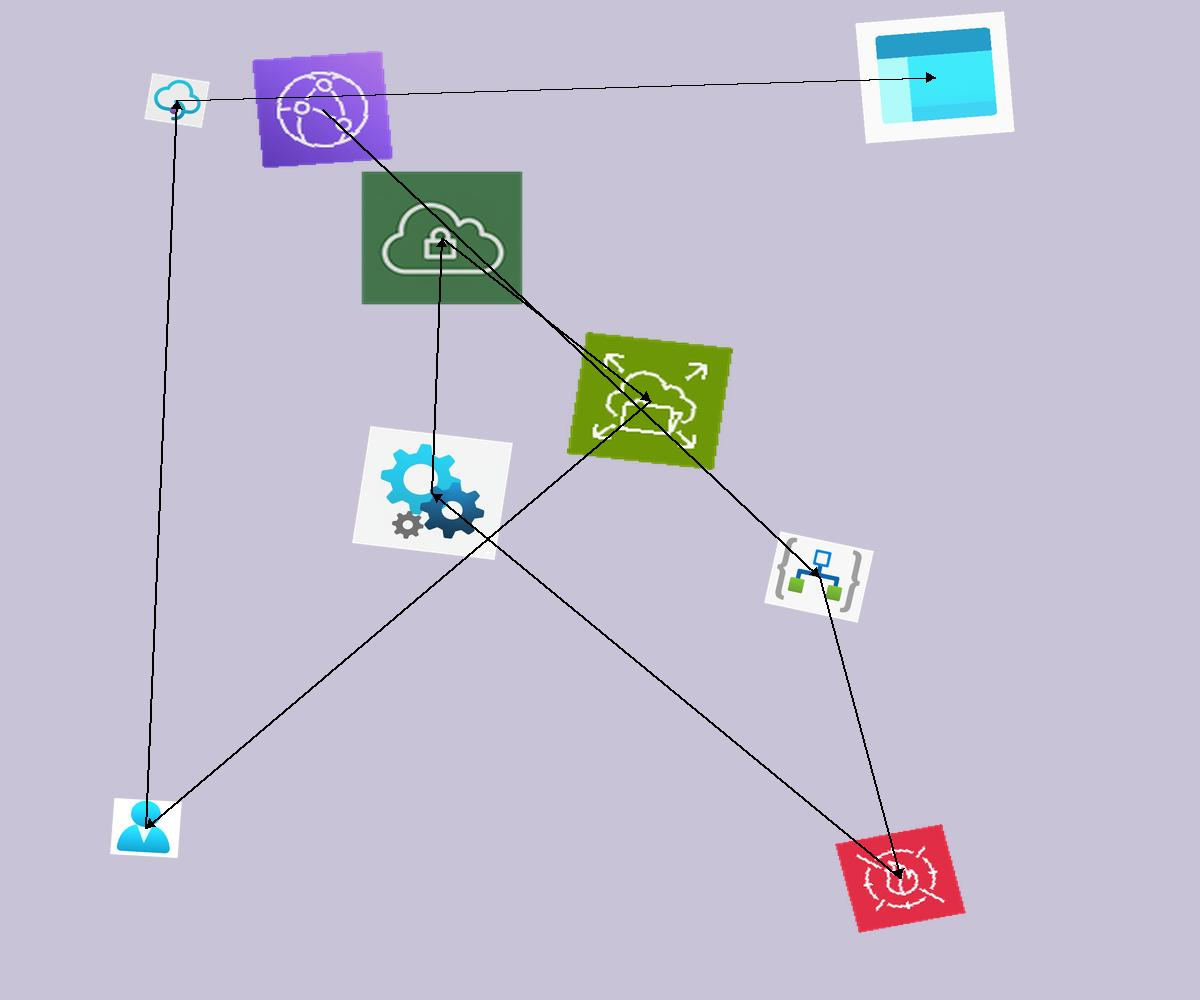AWS-CloudFront: (251, 50, 394, 169)
AWS-EFS: (567, 332, 733, 470)
AWS-Private_vpc: (360, 170, 524, 306)
AWS-WAF: (835, 824, 966, 933)
Azure_api: (352, 426, 513, 560)
Azure_api_gateway: (144, 73, 210, 128)
Azure_integration-204-Logic-Apps: (764, 531, 874, 623)
Azure_management-portal: (855, 11, 1015, 144)
Azure_users: (110, 798, 182, 858)
